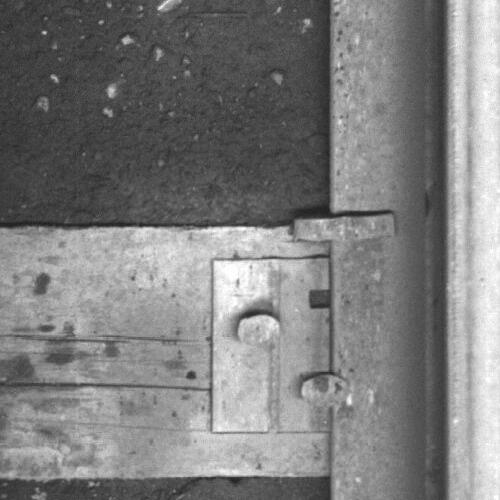crutch: (292, 210, 398, 243)
do: (210, 258, 351, 433)
hole_do: (301, 281, 343, 316)
rail: (444, 1, 500, 500)
tie_wood: (1, 225, 331, 479)
wood_crack: (1, 330, 210, 398)
